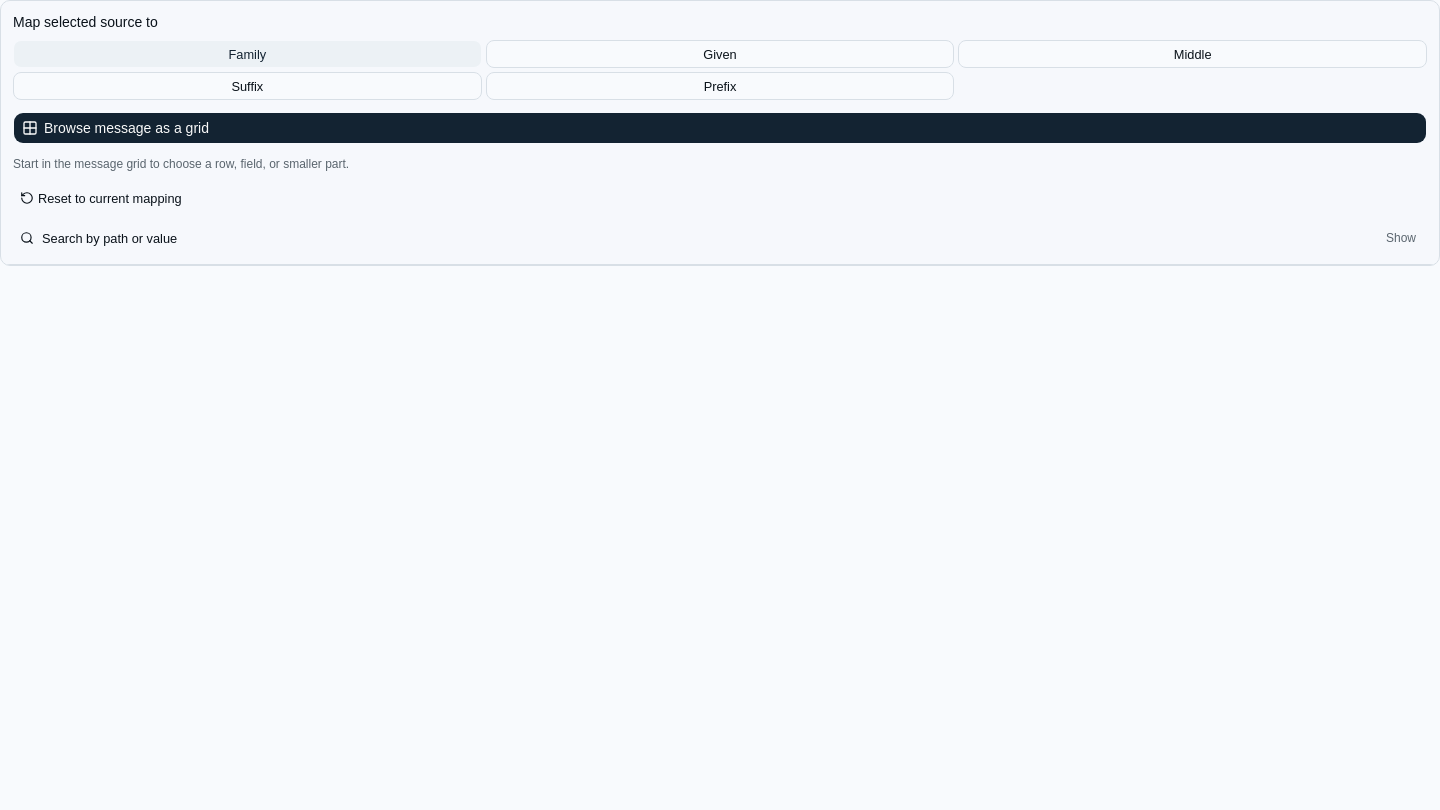
Scenario: HL7 source browser › finds a named field through the grid while preserving the message row
Later steps or results of the test are not shown.
Click the button "Browse message as a grid". click: (126,128)
box: [13,112,1427,144]
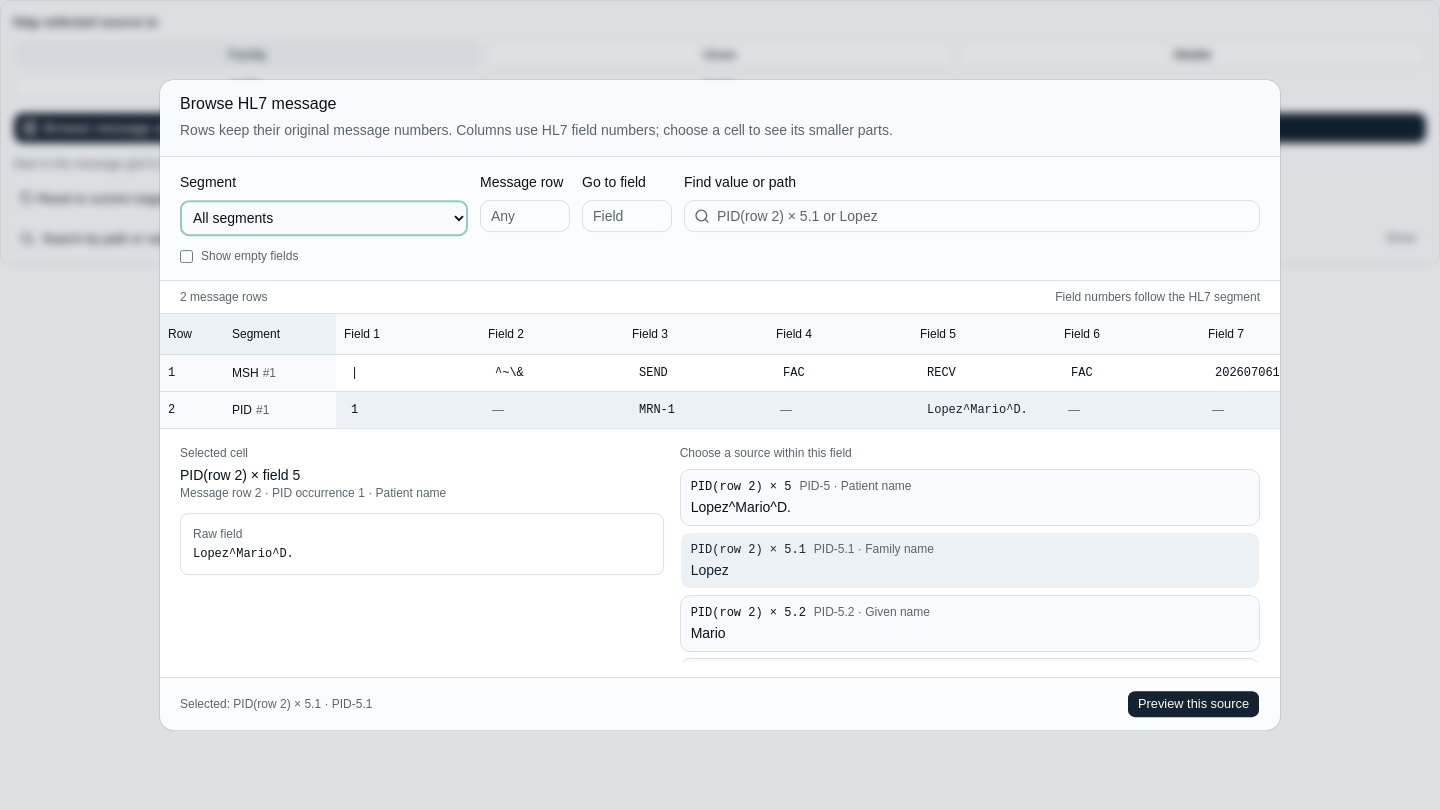
Select "PID" in the dropdown labelled "Segment". click: (324,218)
box: [180,200,468,236]
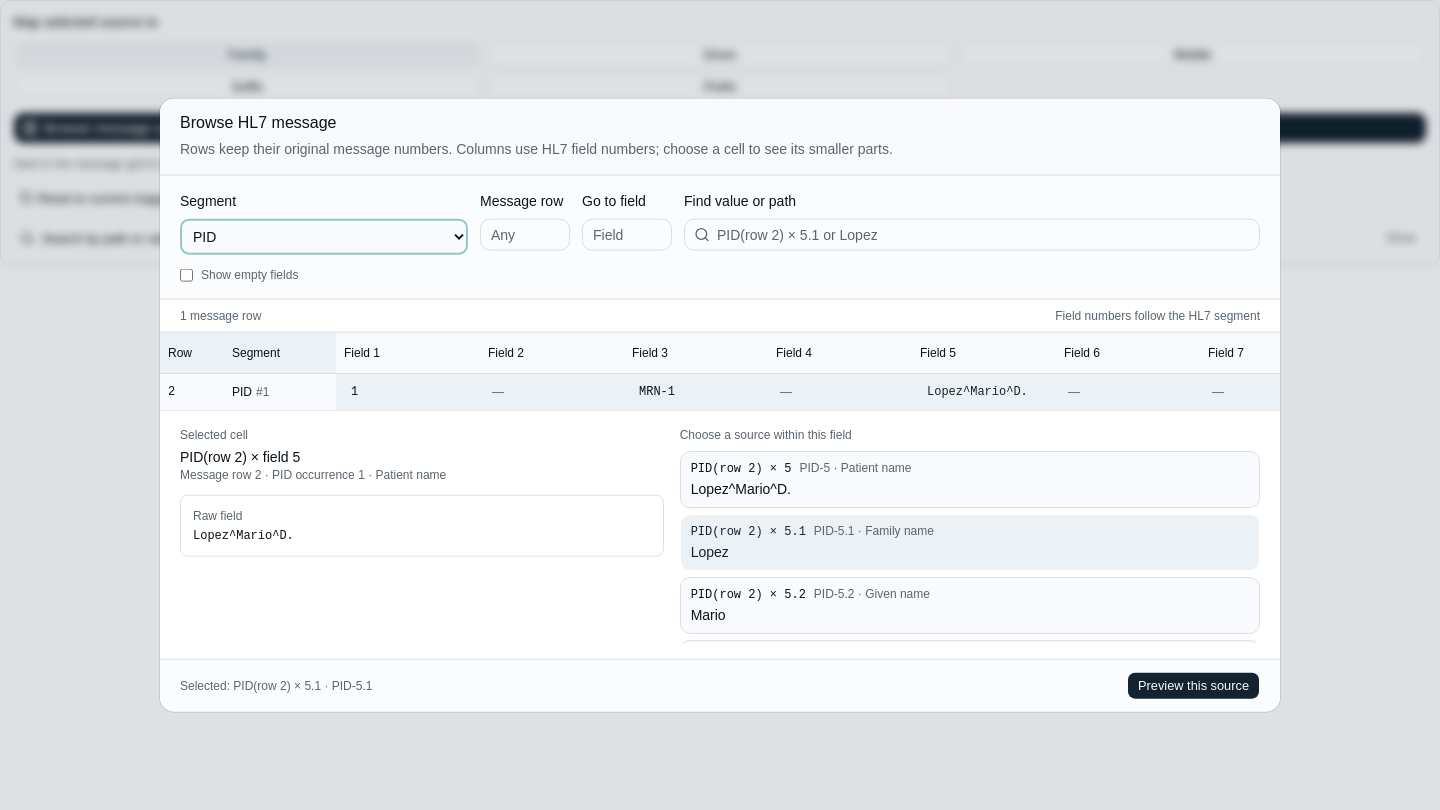
Expected: the text "2" is shown, [160,373,224,409]
Type "PID(row 2) × 5.2" into the field labelled "Find value or path". click: (972,235)
box: [684,219,1260,251]
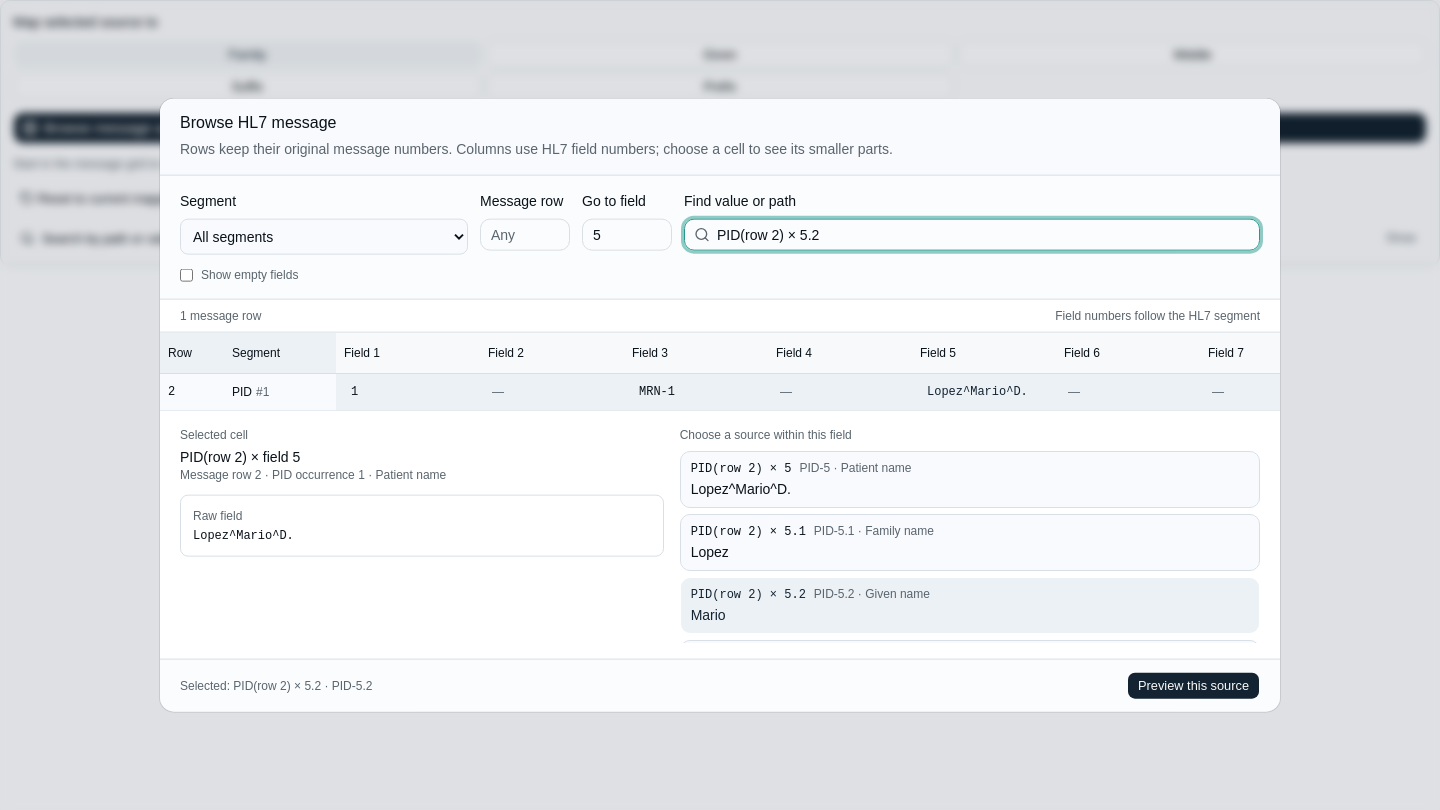
Expected: the text "1 message row" is shown, [180,308,261,324]
Click the button with aria-label "PID message row 2, field 5: Lopez^Mario^D.". click: (984,391)
box: [916,377,1052,405]
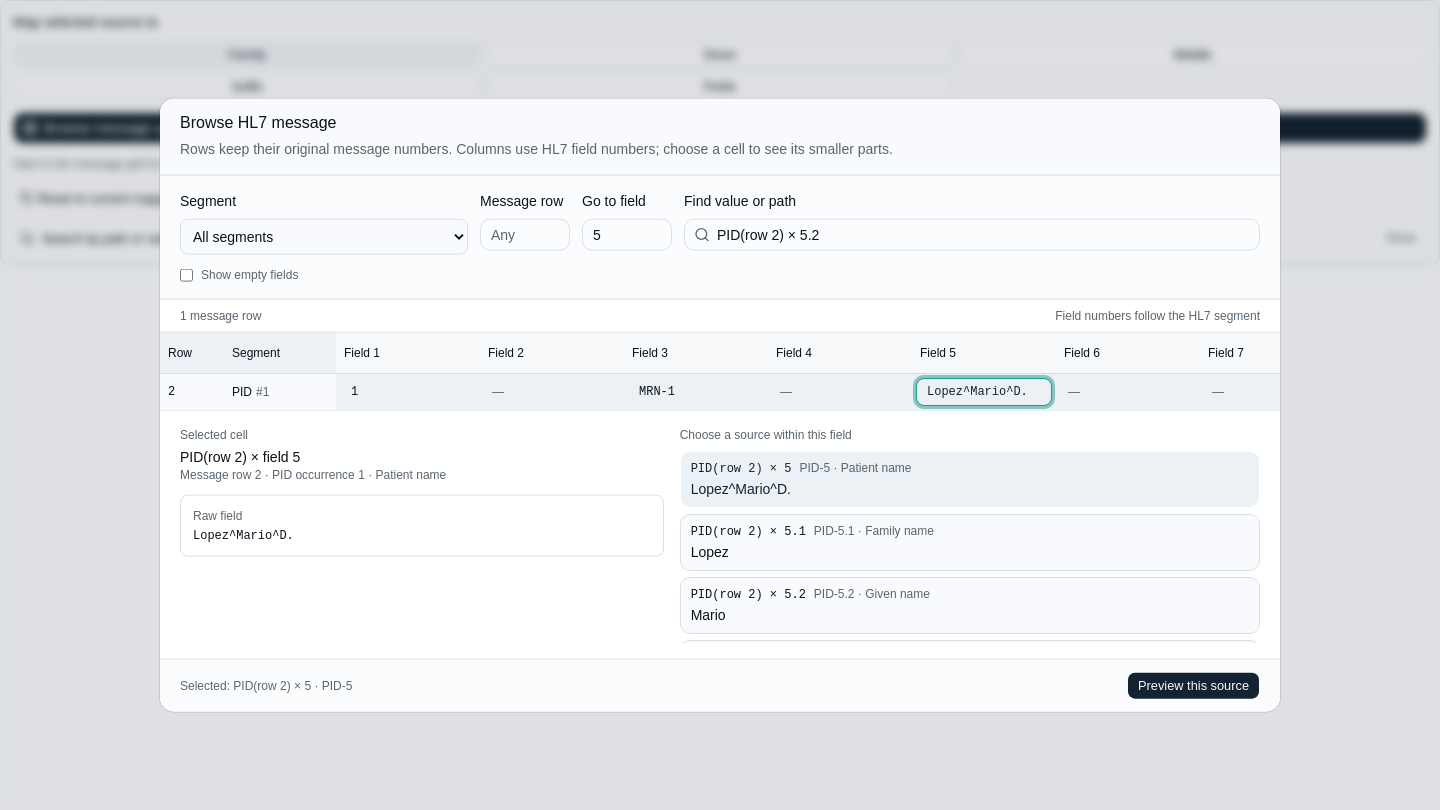
Click the button "PID(row 2) × 5.2 PID-5.2 · Given name Mario". click: (748,594)
box: [680,576,1260,633]
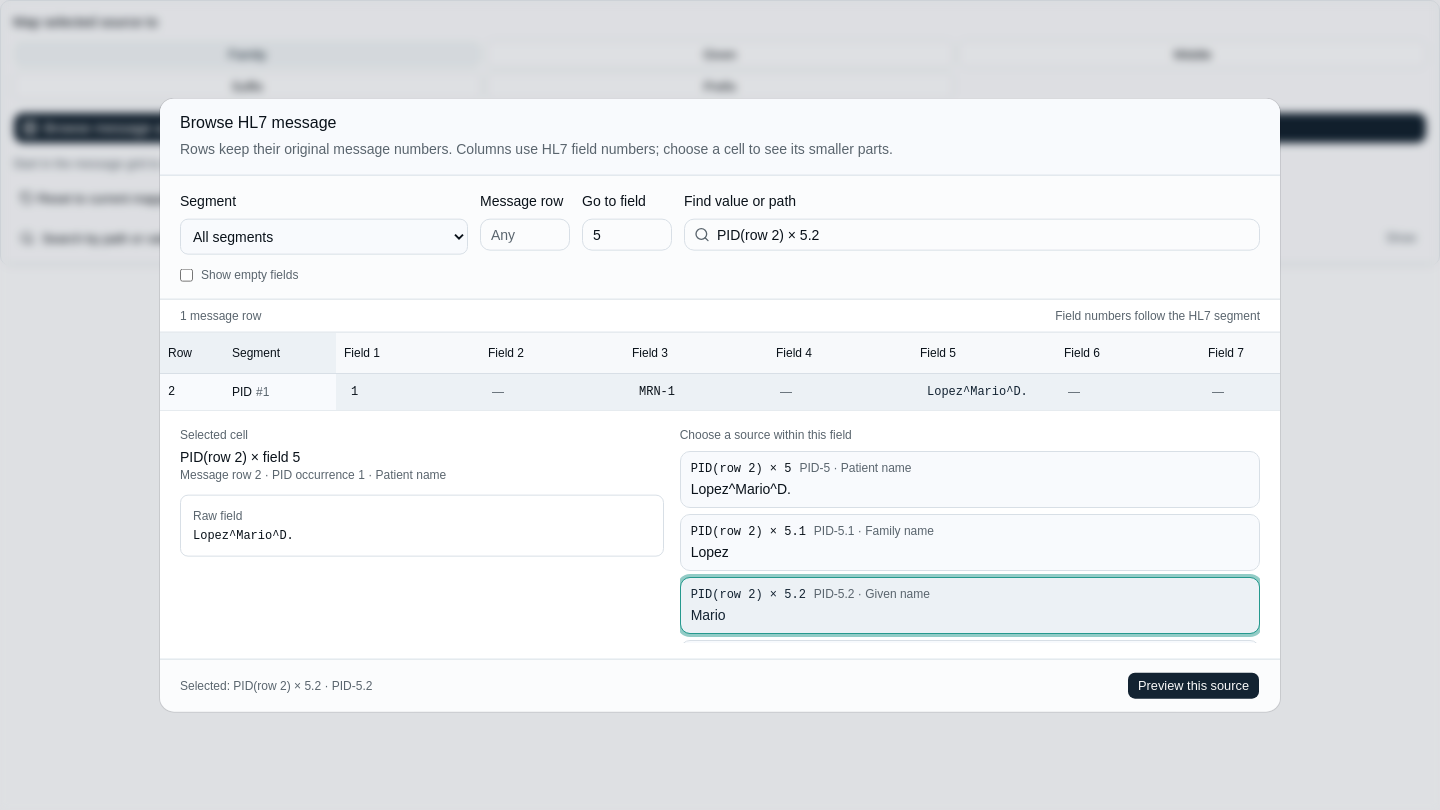
Click the button "Preview this source". click: (1194,685)
box: [1127,671,1260,699]
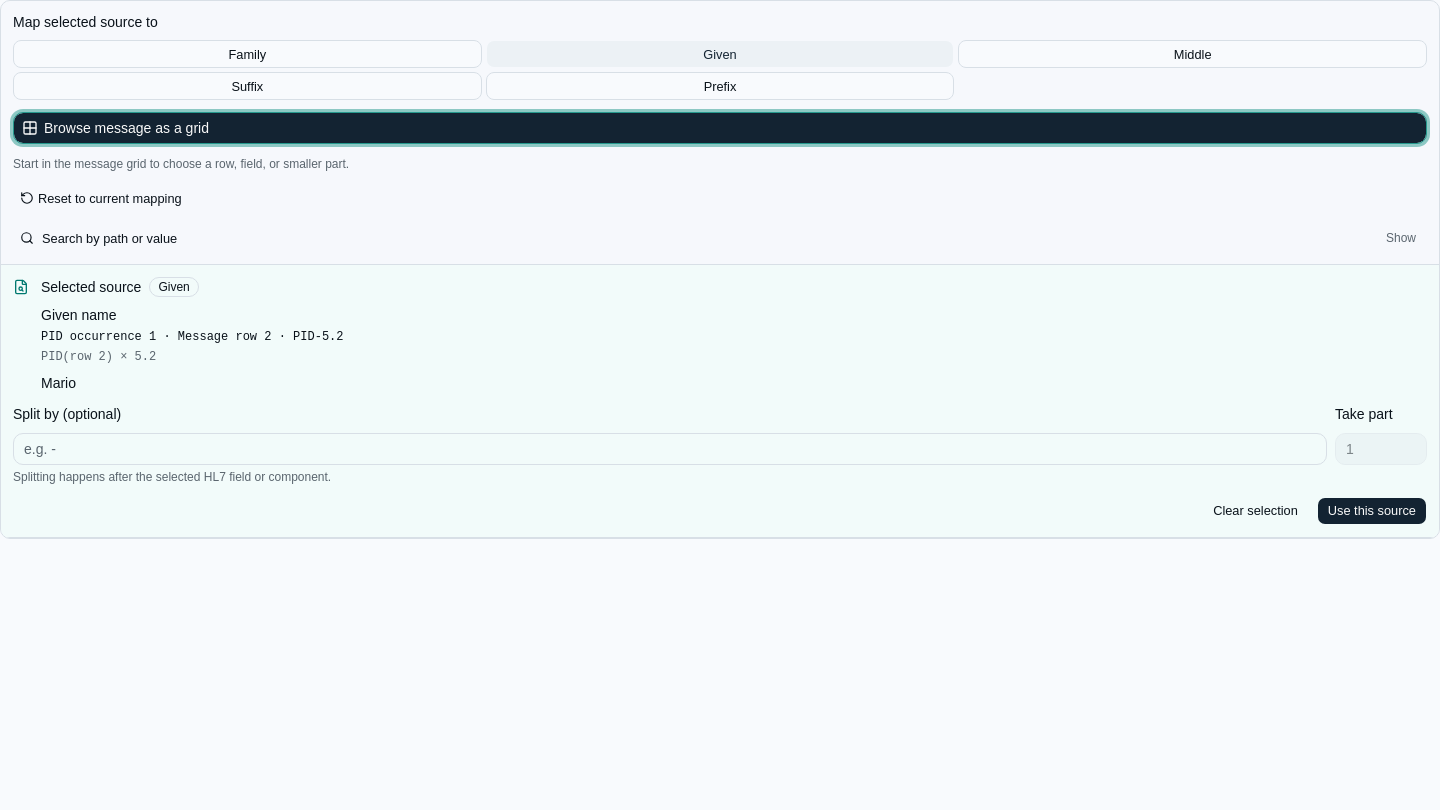
Expected: the text "Selected source" shows "PID(row 2) × 5.2", [41,350,156,364]
Expected: the text "Selected source" shows "Given", [158,280,190,294]
